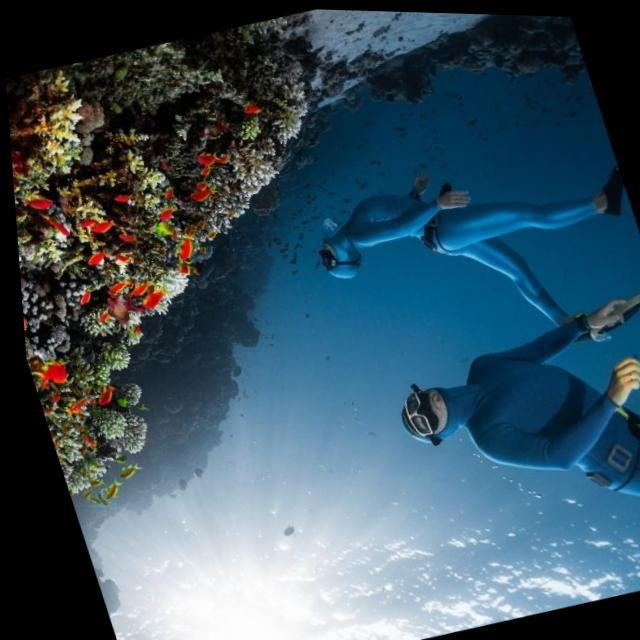human: (271, 82, 640, 390), (363, 278, 640, 632)
